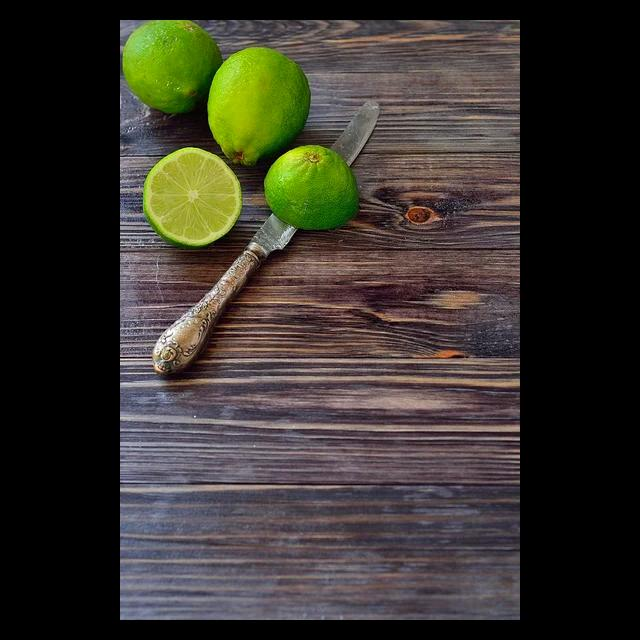lime: (199, 42, 318, 165), (258, 136, 372, 237), (120, 20, 231, 117)
